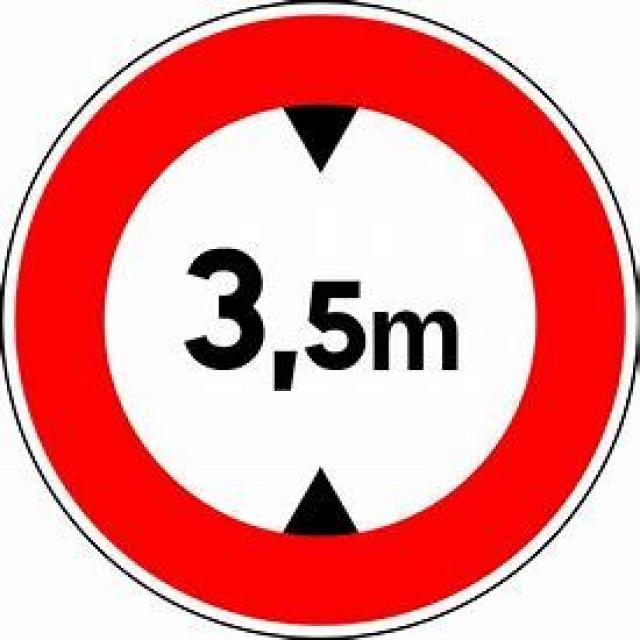height_limit: (0, 0, 638, 638)
